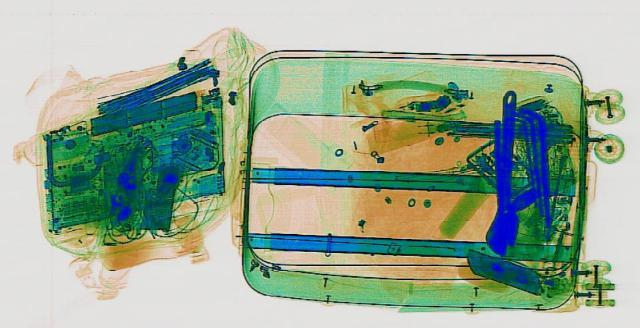Wrench: (482, 88, 524, 255)
